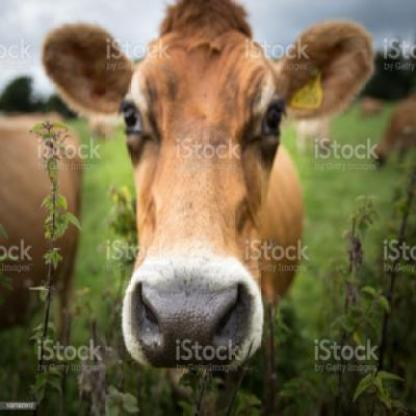lower: (174, 361, 232, 370)
mouth: (123, 261, 265, 373)
upper: (175, 314, 197, 331)
